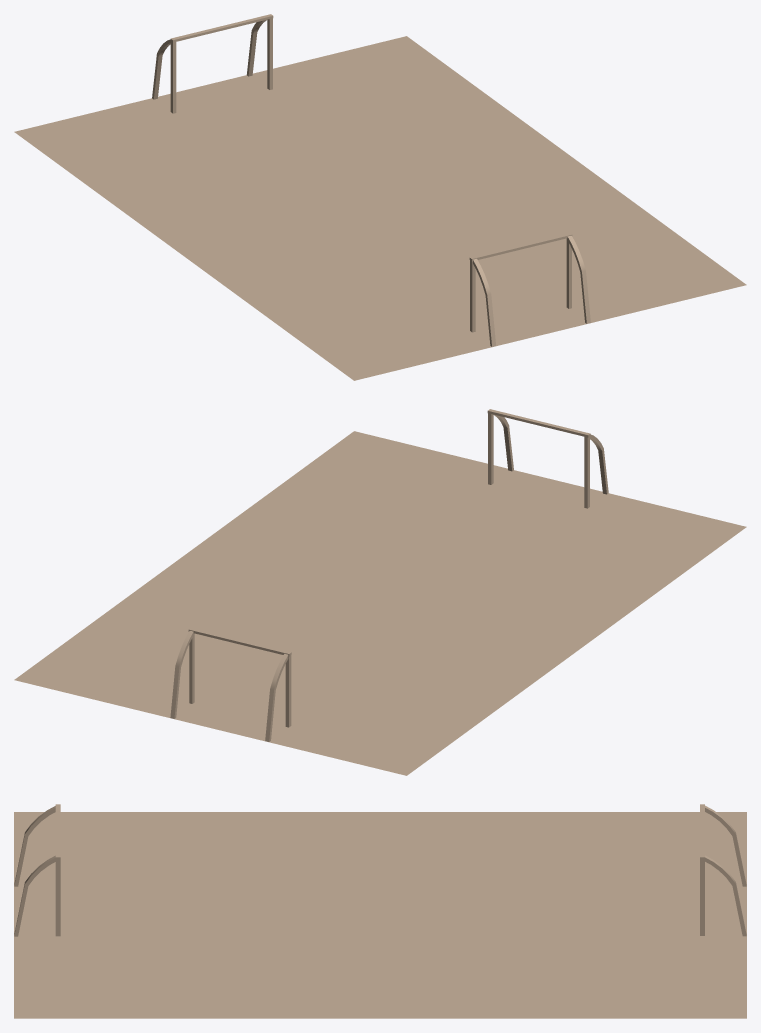
The model's file is footballField20x30.fbx.
The picture shows the model from 3 angles, top to bottom: view 1: azimuth 30°, elevation 25°; view 2: azimuth 150°, elevation 25°; view 3: azimuth 270°, elevation 25°; orthographic projection. The views are drawn at different scales.
Parts seen in each view (by area): view 1: polySurface134; view 2: polySurface134; view 3: polySurface134.
Boxes of the visible parts, x1,y1,x2,y2 form: polySurface134: (14,14,746,380); polySurface134: (14,409,746,775); polySurface134: (14,804,746,1018).
Size of the model in its own units: 20 by 3.61 by 30.
